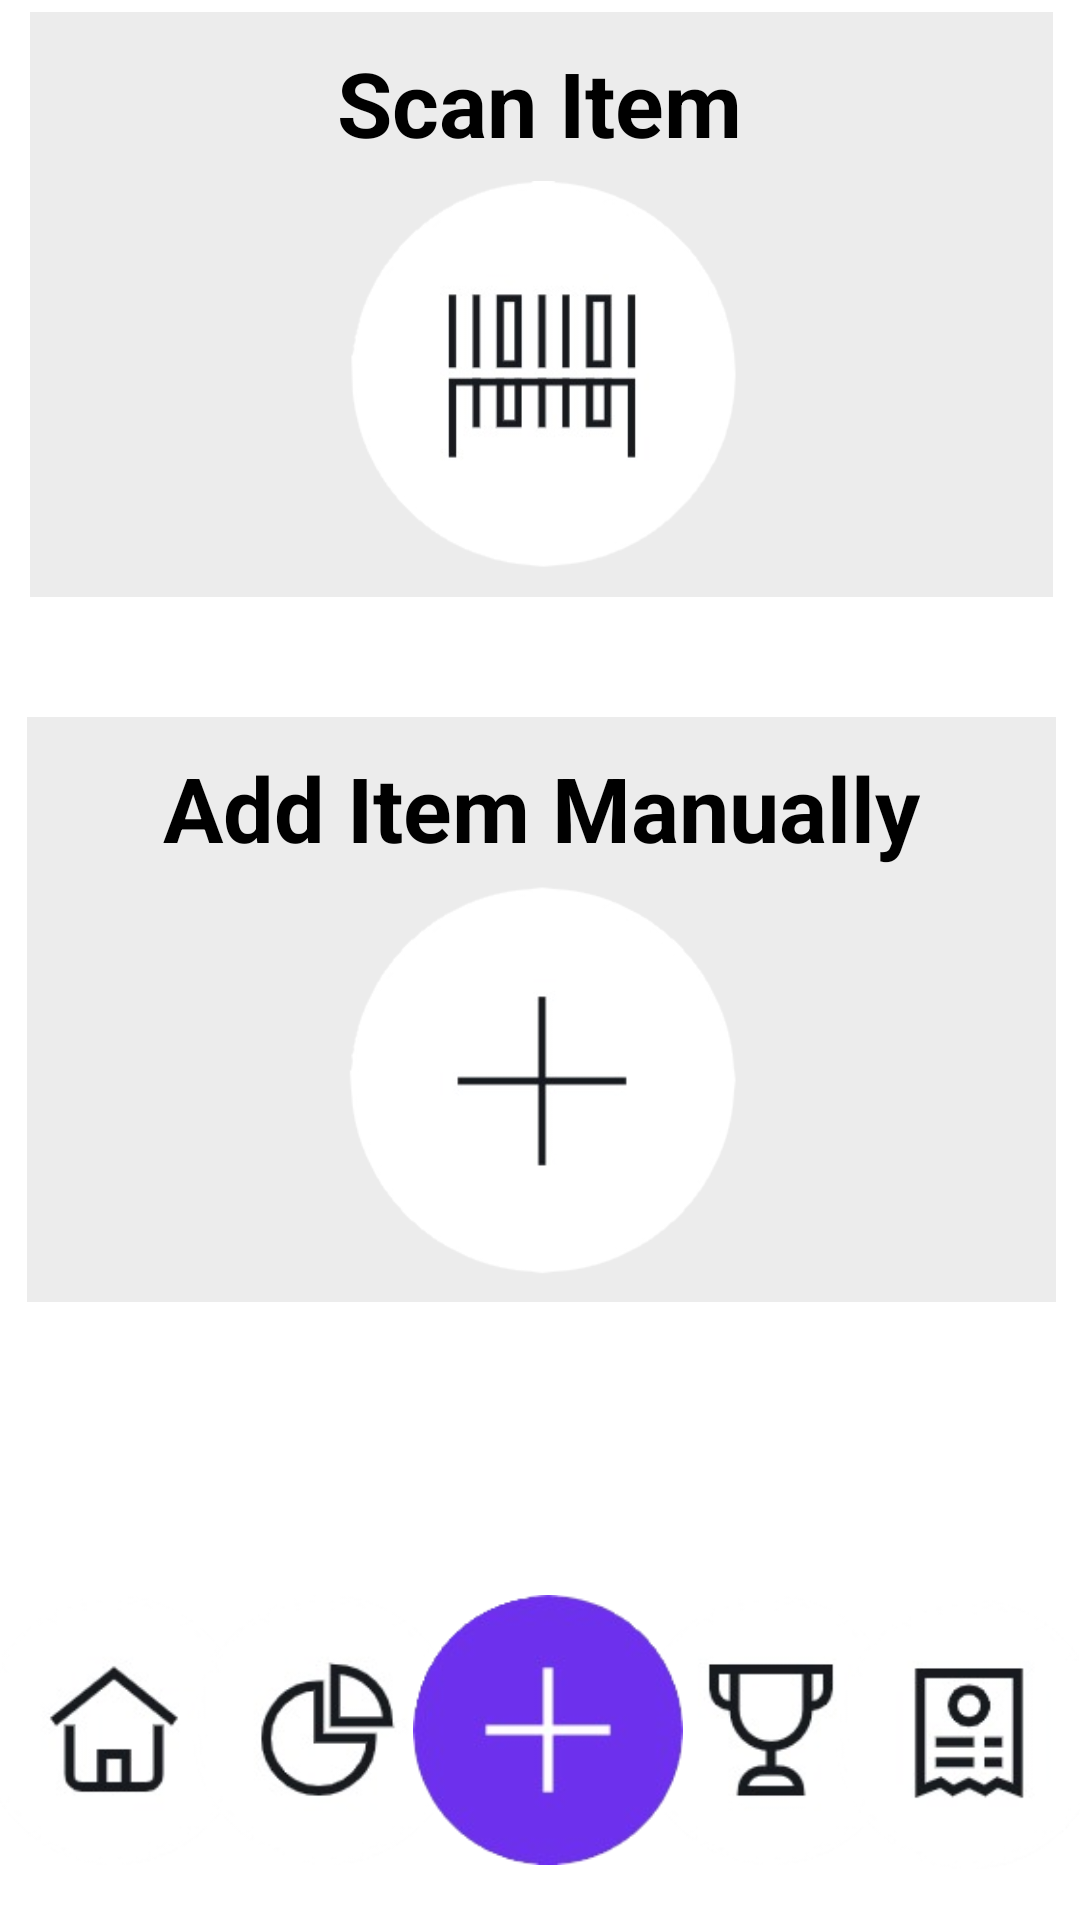

Icon bounding boxes for this 1080 × 1920 phone screenshot, format (x1, y1, x2, y2):
add: (413, 1595, 683, 1865)
bill: (914, 1668, 1024, 1798)
chal: (636, 1629, 834, 1833)
home: (50, 1666, 178, 1793)
stat: (261, 1627, 462, 1835)
